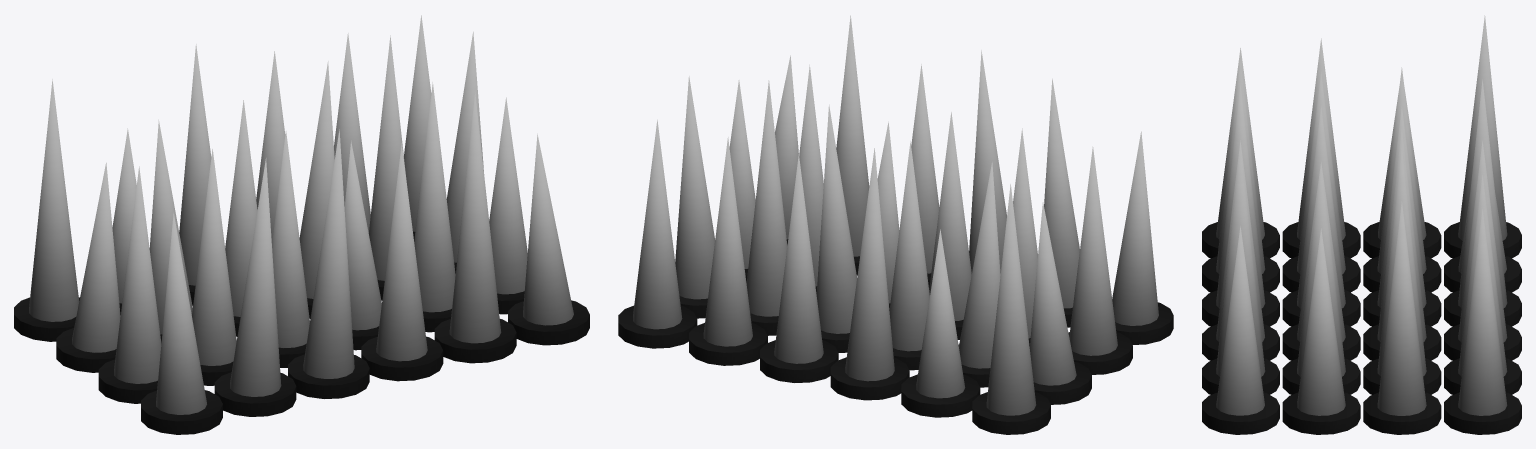
File: Spikes.fbx
The picture shows the model from 3 angles, left to right: view 1: azimuth 30°, elevation 25°; view 2: azimuth 150°, elevation 25°; view 3: azimuth 270°, elevation 25°; orthographic projection. The views are drawn at different scales.
Parts seen in each view (by area): view 1: Cylinder.002; view 2: Cylinder.002; view 3: Cylinder.002.
Boxes of the visible parts, <box> form: Cylinder.002: <box>14,15,589,434</box>; Cylinder.002: <box>618,15,1173,434</box>; Cylinder.002: <box>1202,15,1521,434</box>.
Size of the model in its own units: 597 by 331 by 397.
Materials: 2 (2 with a texture image).
